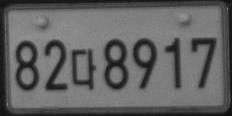1: (163, 36, 188, 88)
2: (43, 38, 67, 90)
7: (190, 37, 218, 88)
8: (14, 39, 39, 91), (103, 38, 128, 90)
9: (132, 37, 157, 89)
다: (71, 47, 96, 90)
